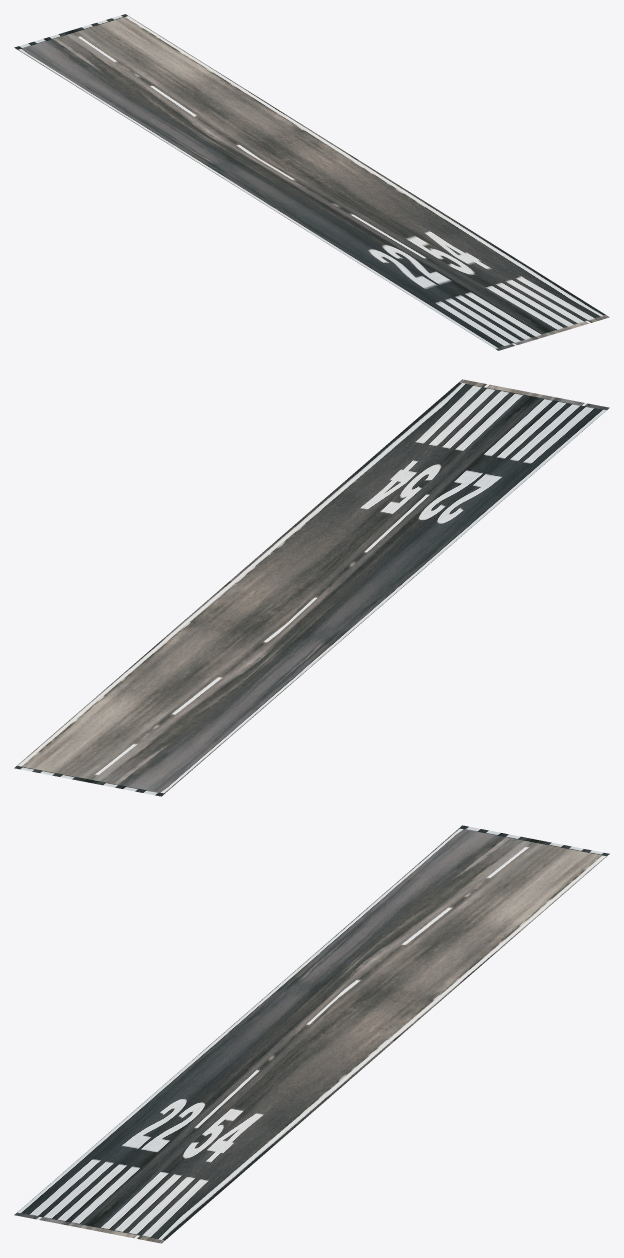
Rendered from Background_asset.glb.
The picture shows the model from 3 angles, top to bottom: view 1: azimuth 30°, elevation 25°; view 2: azimuth 150°, elevation 25°; view 3: azimuth 330°, elevation 25°; orthographic projection. The views are drawn at different scales.
Visible parts, largest first — view 1: Plane; view 2: Plane; view 3: Plane.
Part boxes in pixels (x1,y1,x2,y2): Plane: (14, 14, 609, 350); Plane: (14, 379, 609, 796); Plane: (14, 825, 609, 1243).
Size of the model in its own units: 42.77 by 0.1 by 190.
1 material, 1 textured.
